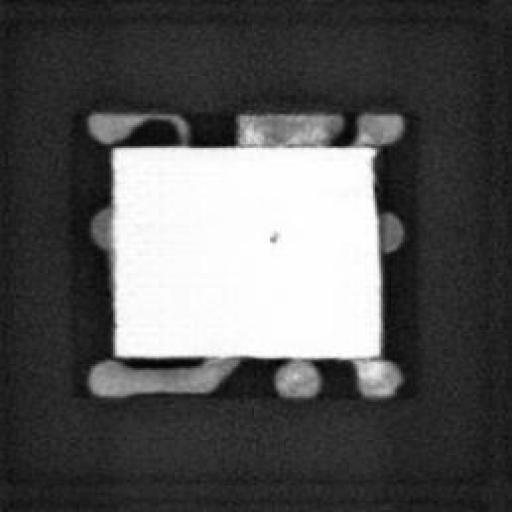DIE_BROKEN: (367, 146, 381, 212)
